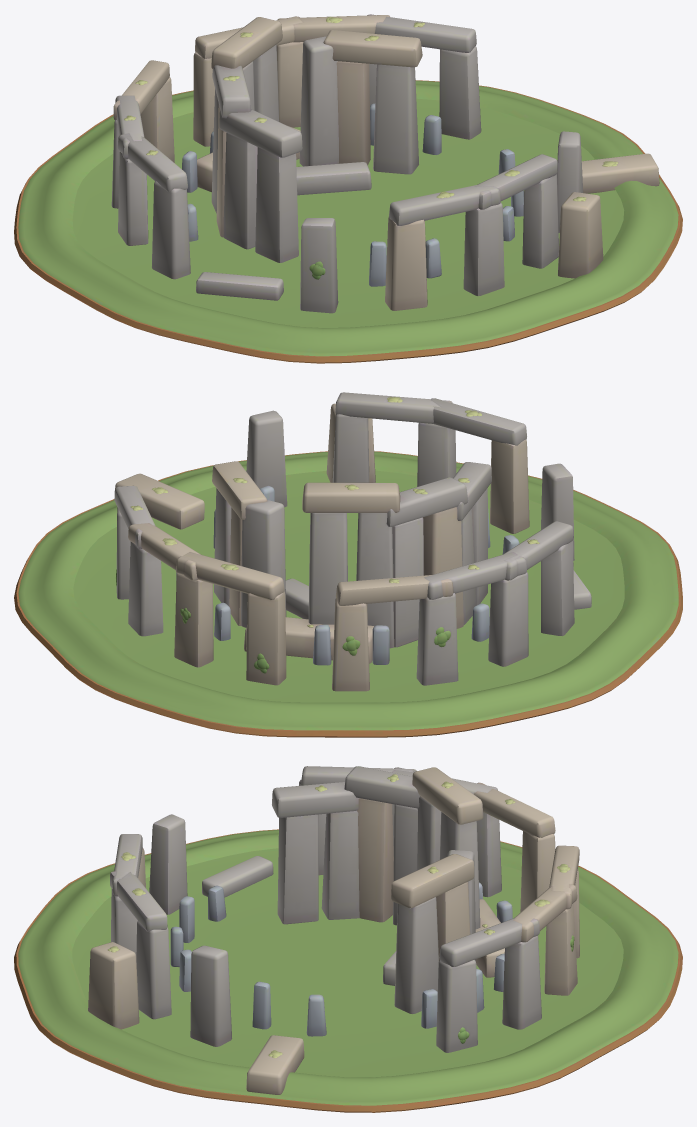
File: UnitedKingdom_Stonehenge_CC0.fbx
3 renders of one model, top to bottom at view 1: azimuth 30°, elevation 25°; view 2: azimuth 150°, elevation 25°; view 3: azimuth 270°, elevation 25°, orthographic.
Parts seen in each view (by area): view 1: stonehenge_body; view 2: stonehenge_body; view 3: stonehenge_body.
Part boxes in pixels (x1,y1,x2,y2): stonehenge_body: [14, 14, 682, 363]; stonehenge_body: [14, 392, 682, 737]; stonehenge_body: [14, 766, 682, 1112].
Size of the model in its own units: 22.31 by 5.95 by 22.24.
1 material, 1 textured.
